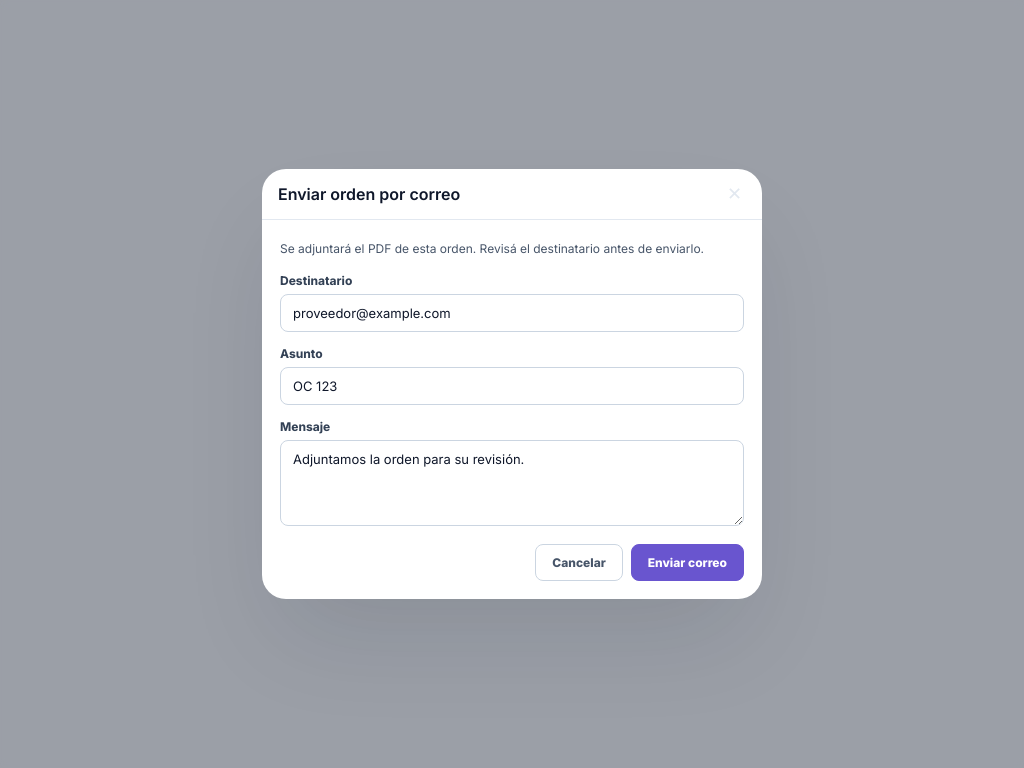
Scenario: envío de órdenes desde el frontend › muestra errores de servidor y no cierra el modal
Click the button "Enviar correo". click: (687, 562)
box: [631, 544, 744, 581]
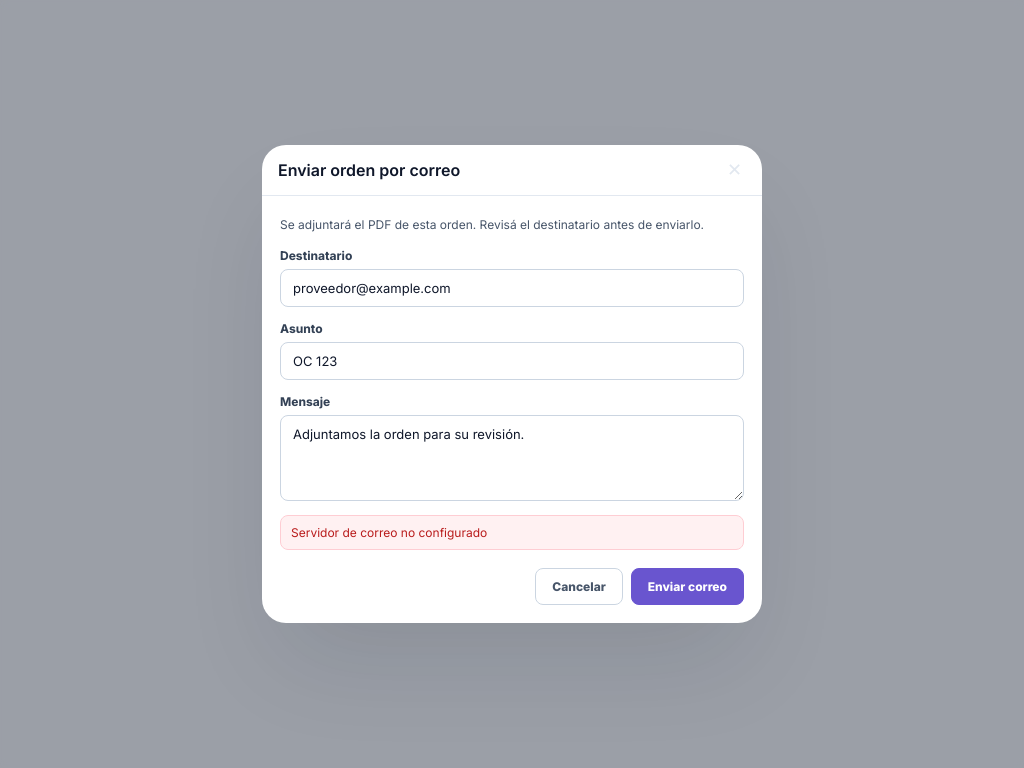
Expected: the message reads "Servidor de correo no configurado", [291, 525, 487, 540]
